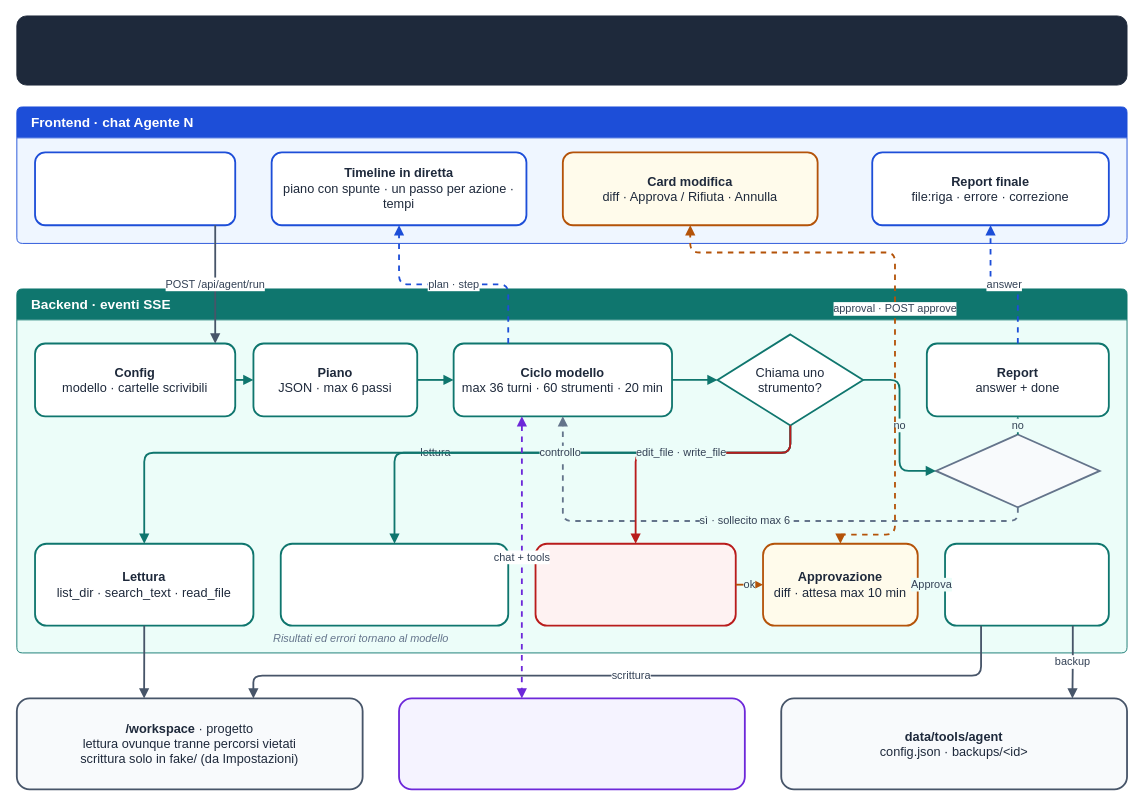
This 1143x806 diagram has some shape labels left out. Each missing label, with the box of its shape:
AndreaGPT · Agente Piano, strumenti, controlli e scrittura solo con approvazione: (16, 15, 1127, 85)
Controlli fissi python_syntax · javascript_syntax · typescript: (279, 542, 509, 626)
Ollama locale qwen3:14b · tool calling temperature 0.2 · num_ctx 8192: (398, 697, 745, 790)
Passi del piano aperti?: (935, 433, 1100, 508)
Permessi solo cartelle scrivibili .env · .git · node_modules vietati: (534, 542, 736, 626)
Richiesta es. correggi gli errori in fake: (34, 151, 236, 226)
Scrittura backup · file atomico · undo: (944, 542, 1109, 626)
